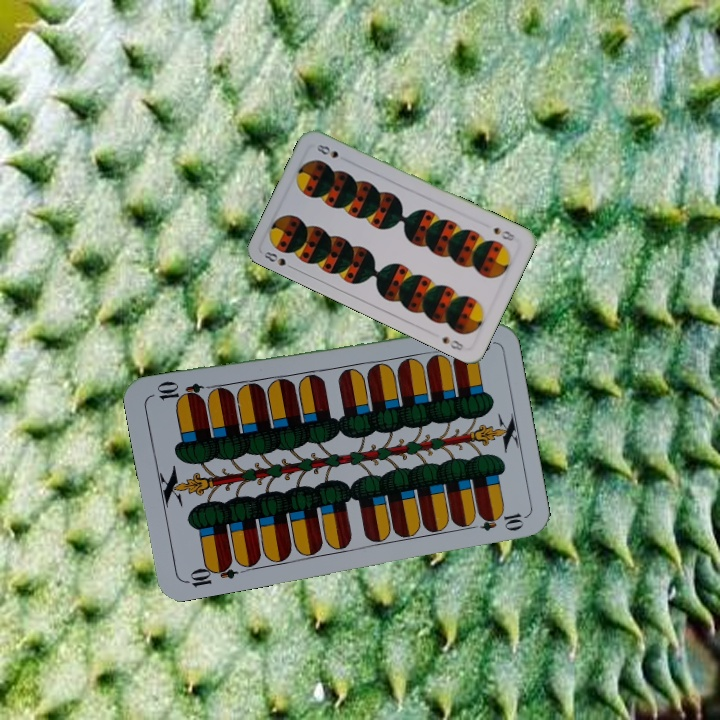E10: (181, 556, 240, 591)
S8: (260, 247, 298, 273), (489, 223, 518, 244)
